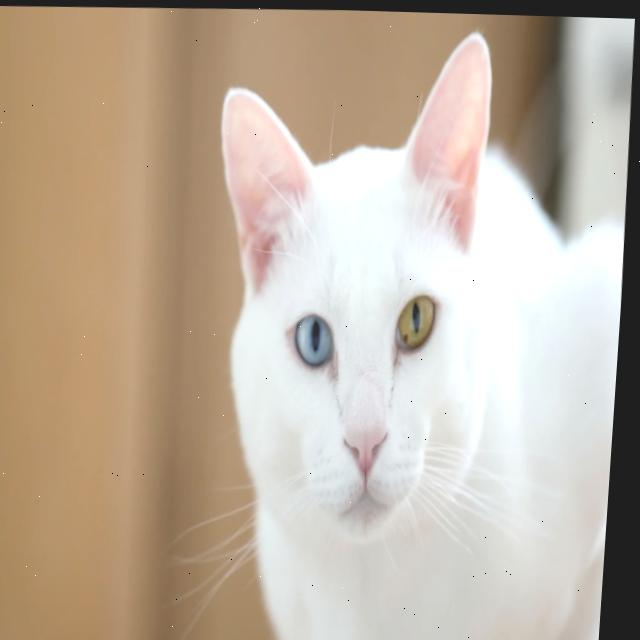Khao Manee: (188, 15, 639, 640)
